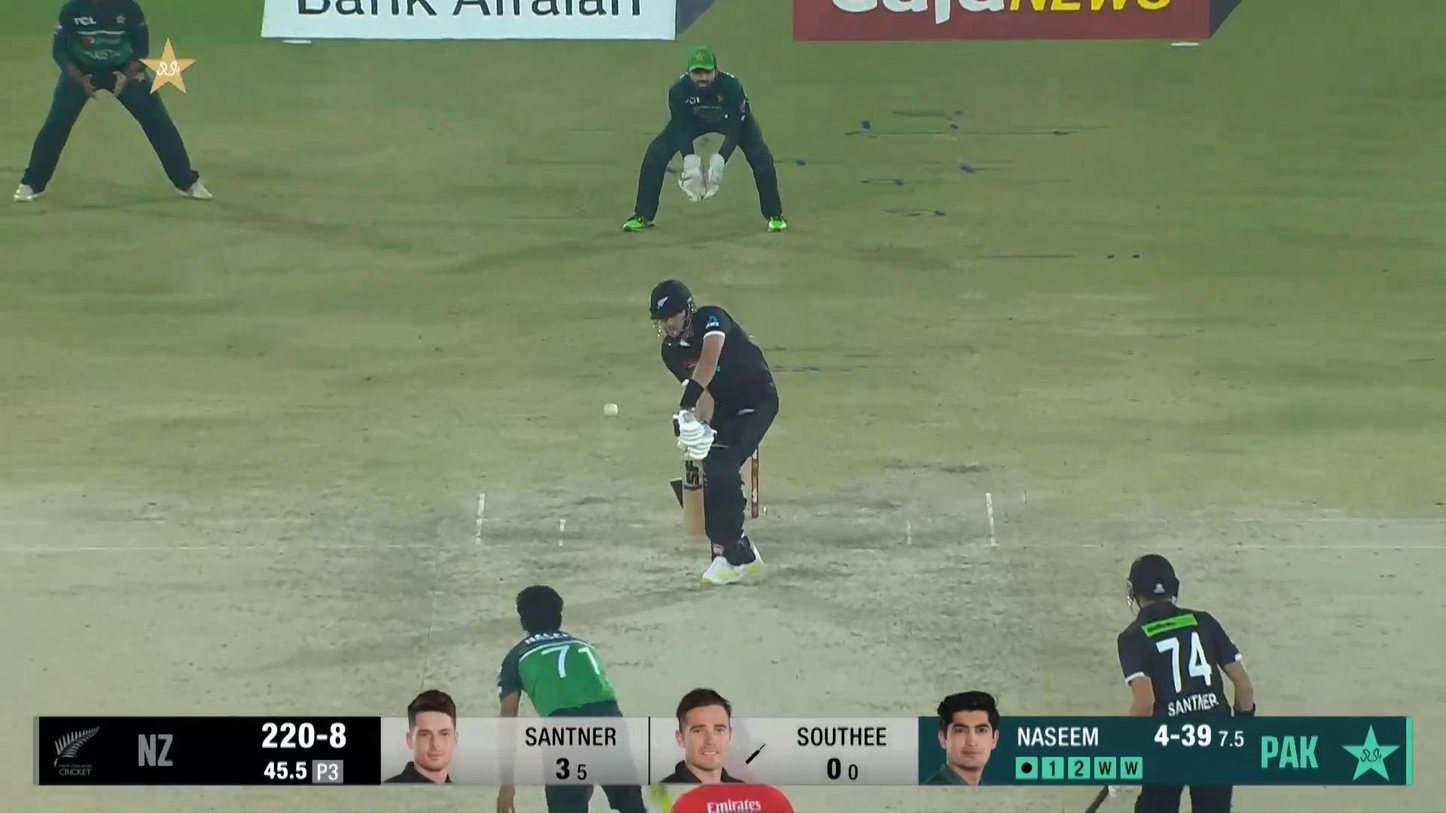BM 1: (650, 278, 780, 586)
BO: (492, 583, 654, 813)
